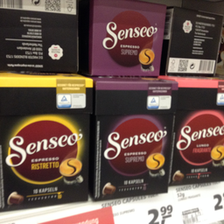coffee: (1, 70, 93, 211), (93, 78, 177, 198), (88, 1, 167, 79)
